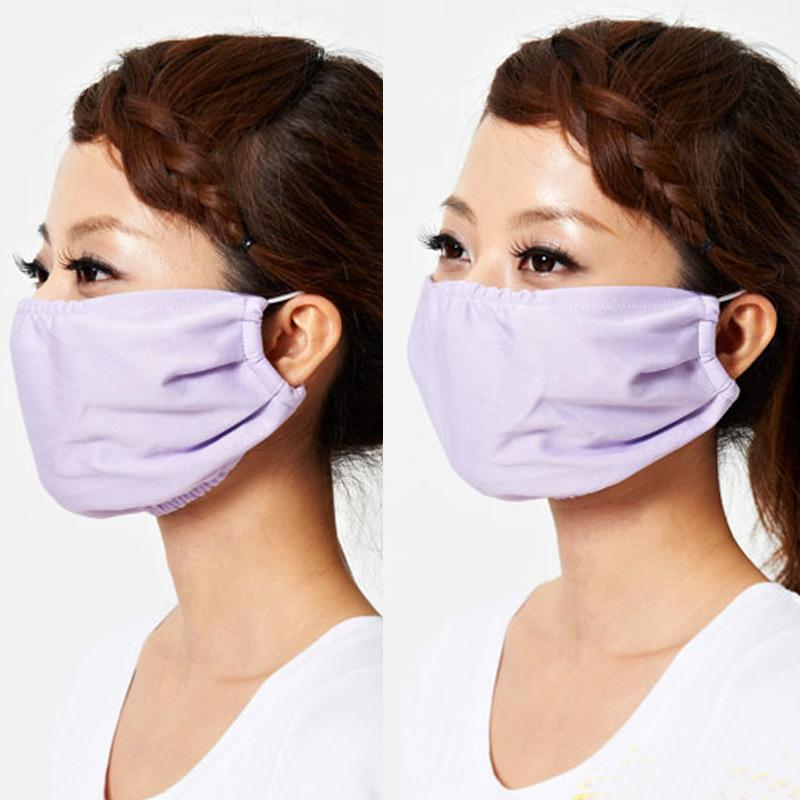face_mask: (425, 108, 691, 477), (13, 125, 262, 495)
